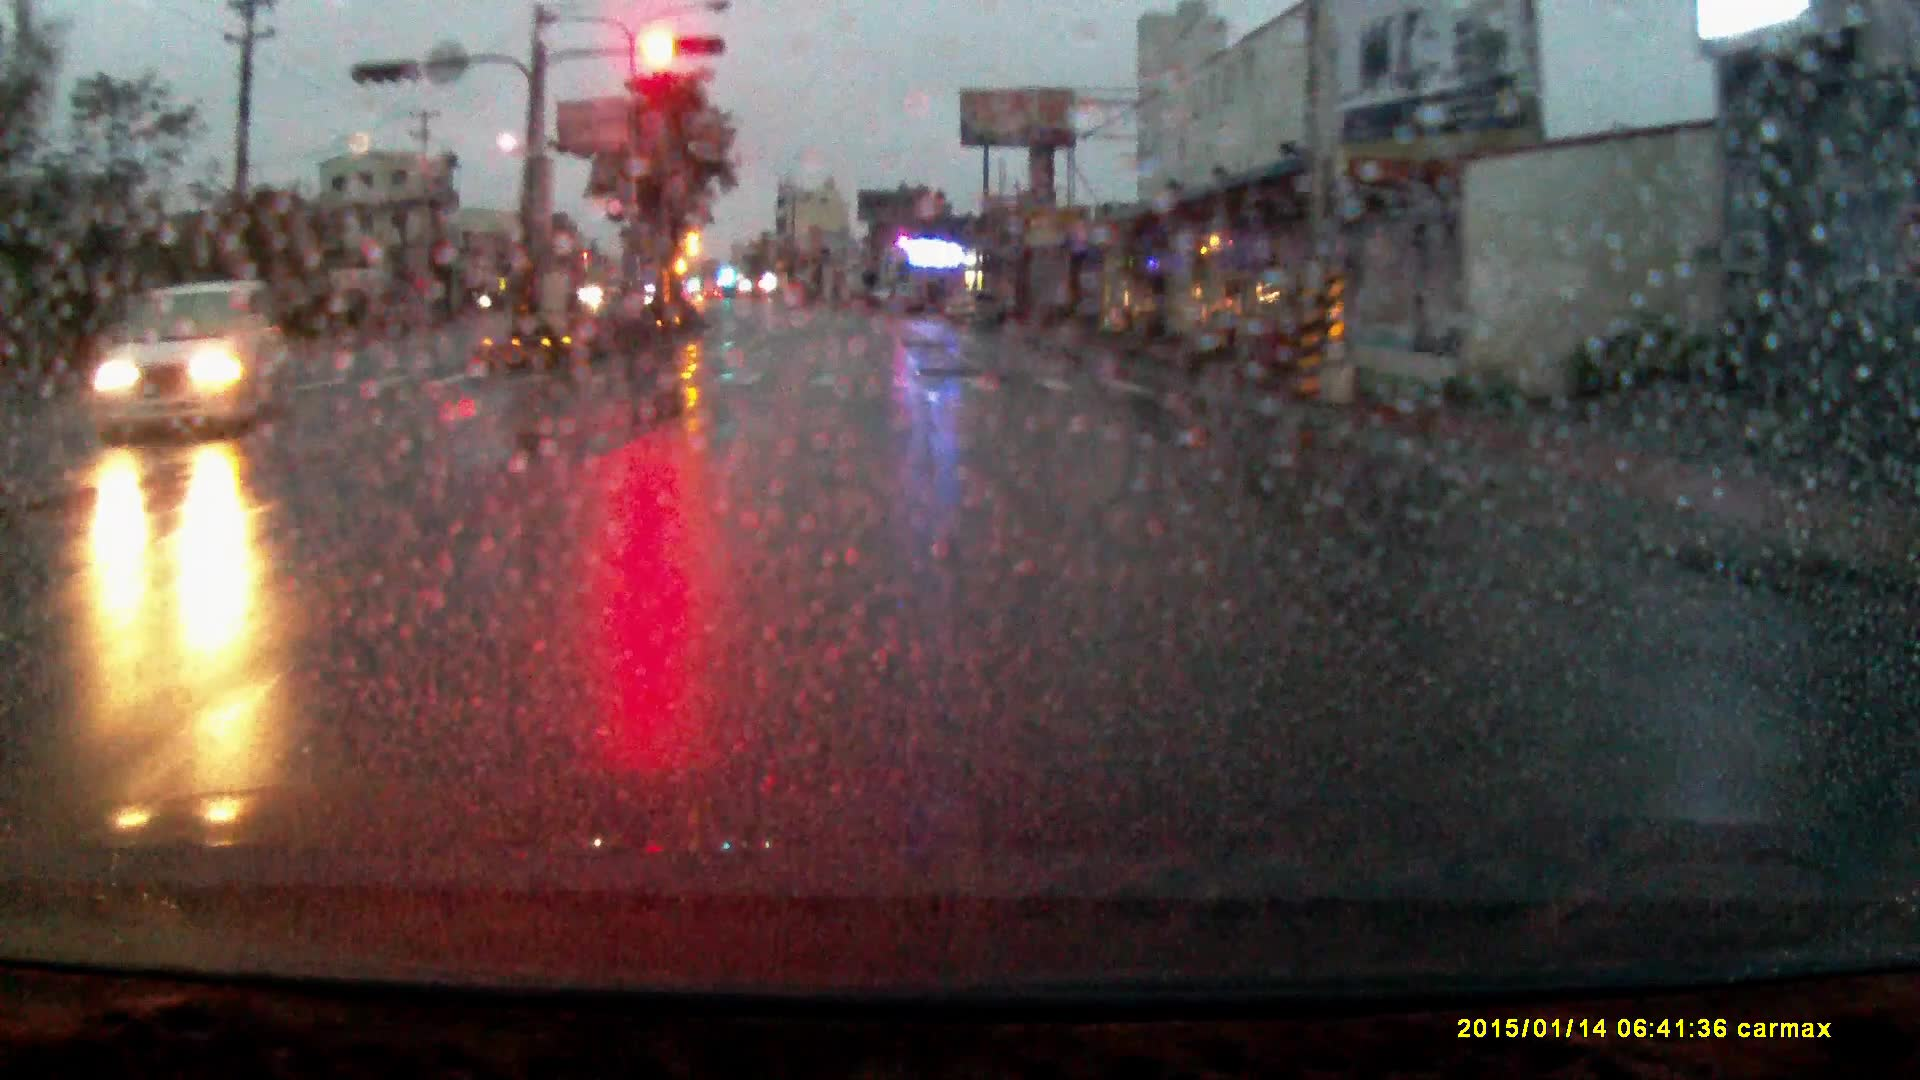vehicle: (83, 282, 284, 444)
